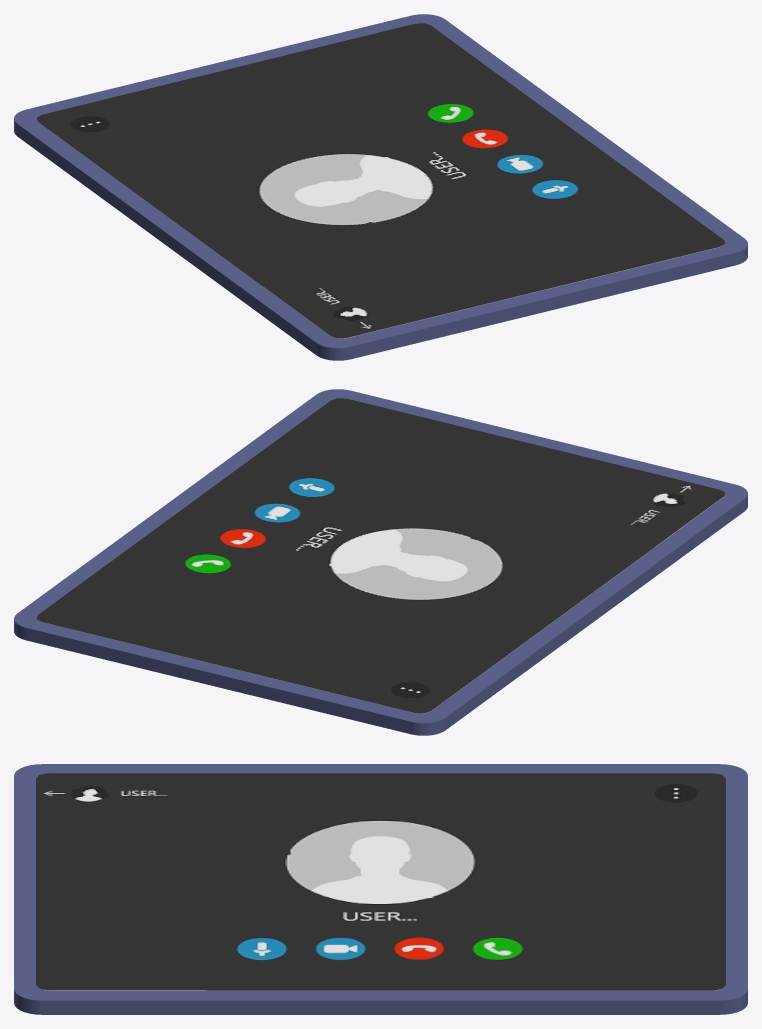
File: iPad.fbx
3 renders of one model, top to bottom at view 1: azimuth 30°, elevation 25°; view 2: azimuth 150°, elevation 25°; view 3: azimuth 270°, elevation 25°, orthographic. The views are drawn at different scales.
Parts seen in each view (by area): view 1: polySurface25; view 2: polySurface25; view 3: polySurface25.
Part boxes in pixels (x1,y1,x2,y2): polySurface25: [14, 14, 747, 360]; polySurface25: [14, 389, 747, 735]; polySurface25: [14, 764, 747, 1014].
Bounding box in the file's own units: 21.32 × 0.6744 × 27.97.
5 materials, 1 textured.
